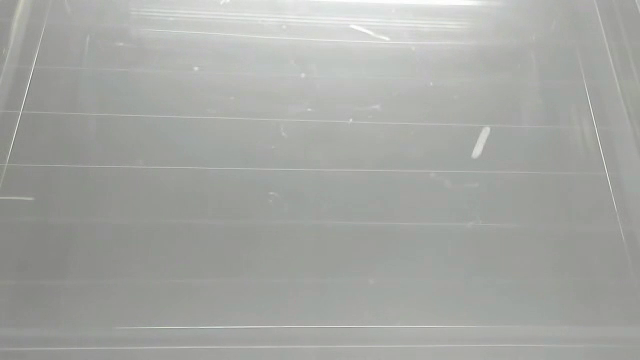alpha: (344, 21, 393, 45), (469, 124, 496, 161), (1, 186, 40, 205)
